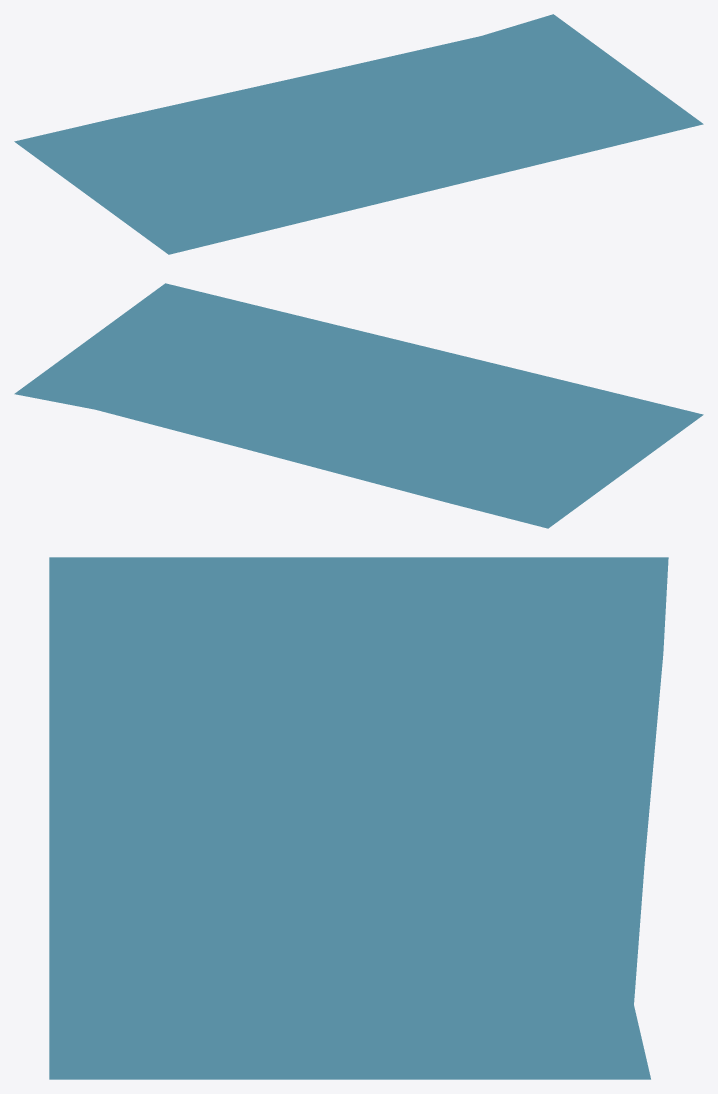
The model's file is nature_20_-3.glb.
3 views of the same model, one above another, from view 1: azimuth 30°, elevation 25°; view 2: azimuth 150°, elevation 25°; view 3: azimuth 270°, elevation 25° (orthographic). The views are drawn at different scales.
Visible parts, largest first — view 1: water; view 2: water; view 3: water.
Boxes of the visible parts, <box> form: water: <box>14,14,703,254</box>; water: <box>14,283,703,528</box>; water: <box>49,557,668,1079</box>.
Size of the model in its own units: 250 by 0 by 125.
